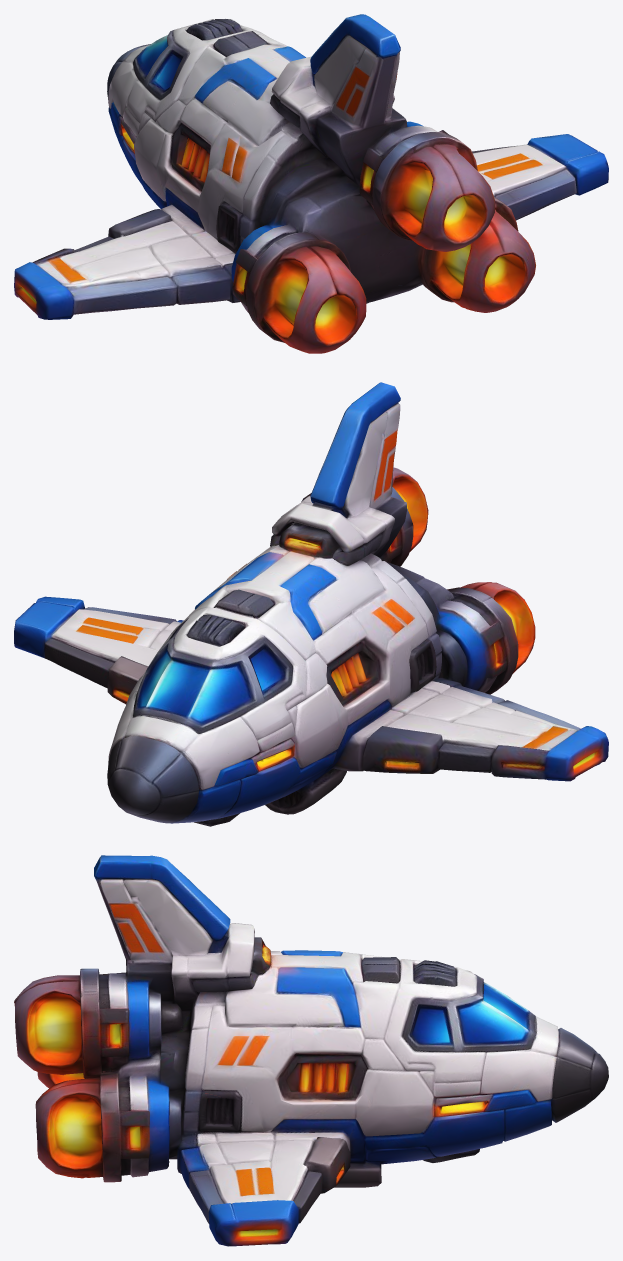
The model's file is fx_shuttle.glb.
The picture shows the model from 3 angles, top to bottom: view 1: azimuth 30°, elevation 25°; view 2: azimuth 150°, elevation 25°; view 3: azimuth 270°, elevation 25°; orthographic projection. The views are drawn at different scales.
Parts seen in each view (by area): view 1: tripo_node_69224354-1308-4c92-b065-b8e3a02e7db5; view 2: tripo_node_69224354-1308-4c92-b065-b8e3a02e7db5; view 3: tripo_node_69224354-1308-4c92-b065-b8e3a02e7db5.
Boxes of the visible parts, <box> form: tripo_node_69224354-1308-4c92-b065-b8e3a02e7db5: <box>14,14,608,353</box>; tripo_node_69224354-1308-4c92-b065-b8e3a02e7db5: <box>14,382,608,826</box>; tripo_node_69224354-1308-4c92-b065-b8e3a02e7db5: <box>14,855,608,1246</box>.
Bounding box in the file's own units: 1 × 0.5363 × 0.9348.
Materials: 1 (1 with a texture image).
